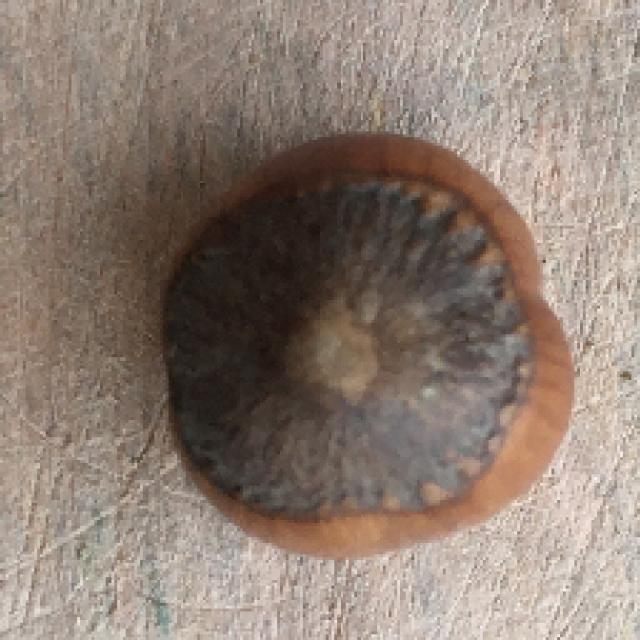DamagedHazelnut: (152, 130, 573, 555)
